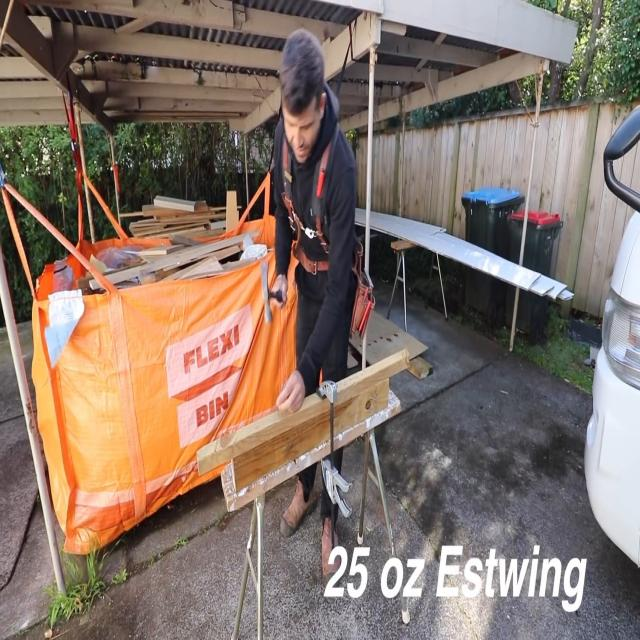hammer: (260, 259, 282, 323)
